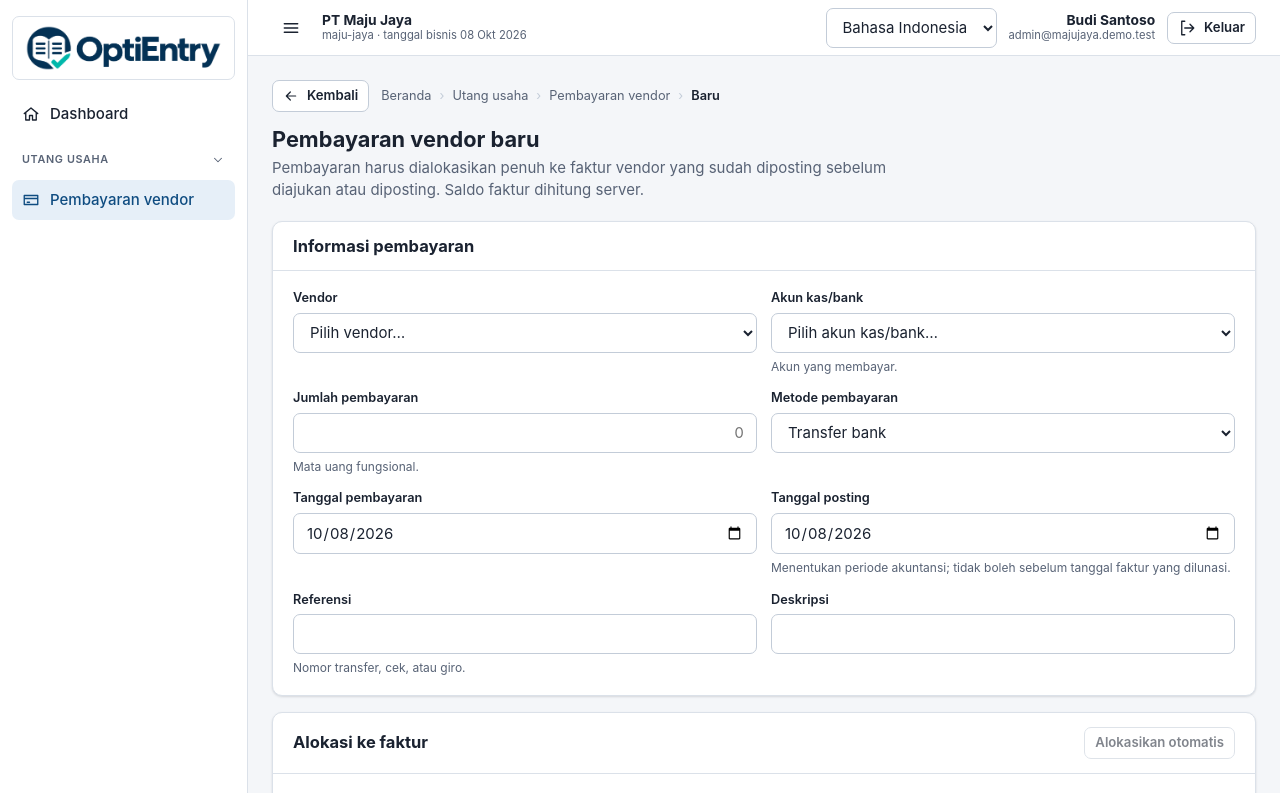
Test: vendor payment editor › sends the exact payload with the allocations of the suggestion as decimal strings
Check: the heading "Pembayaran vendor baru" is shown, box [272,126,539,152]
Select "V1 · PT Sumber Makmur" in the dropdown labelled "Vendor" at {"x": 525, "y": 333}, box [293,313,757,353]
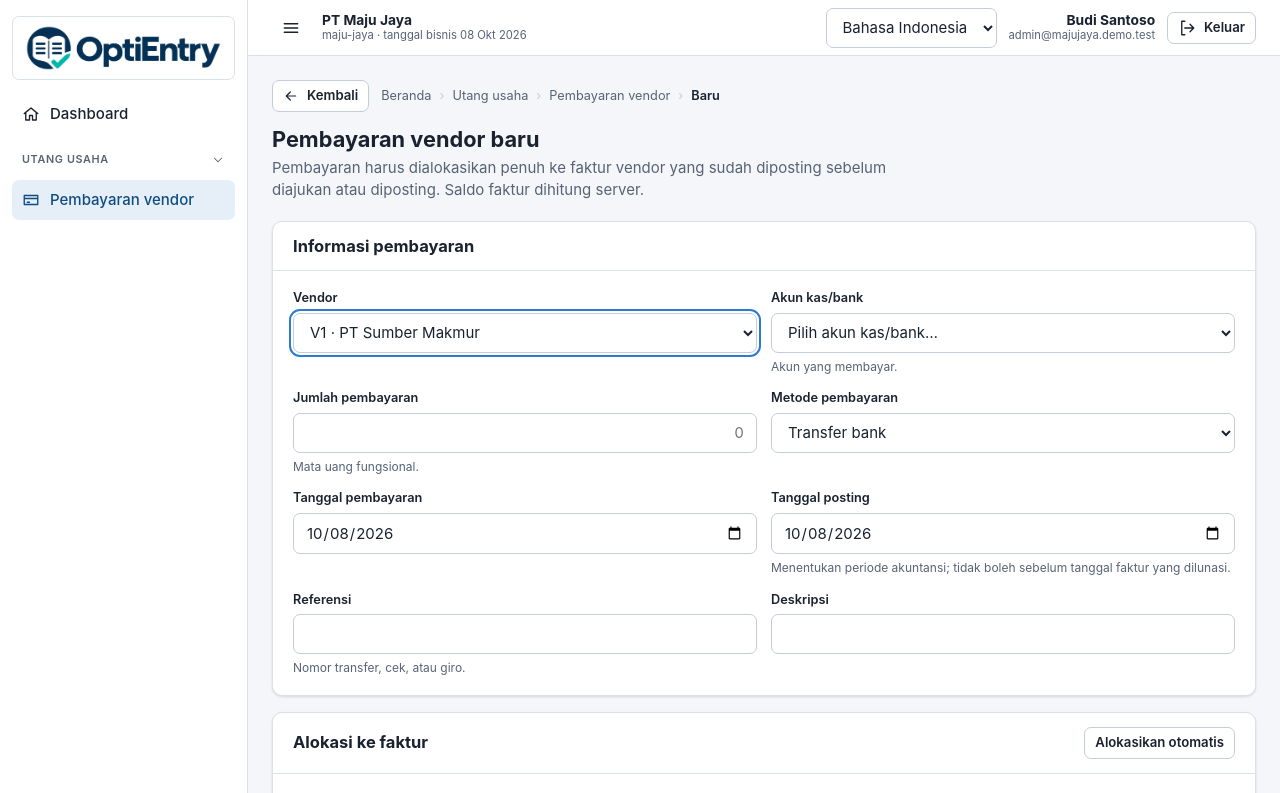
Select "BCA · BCA Operasional" in the dropdown labelled "Akun kas/bank" at {"x": 1003, "y": 333}, box [771,313,1235,353]
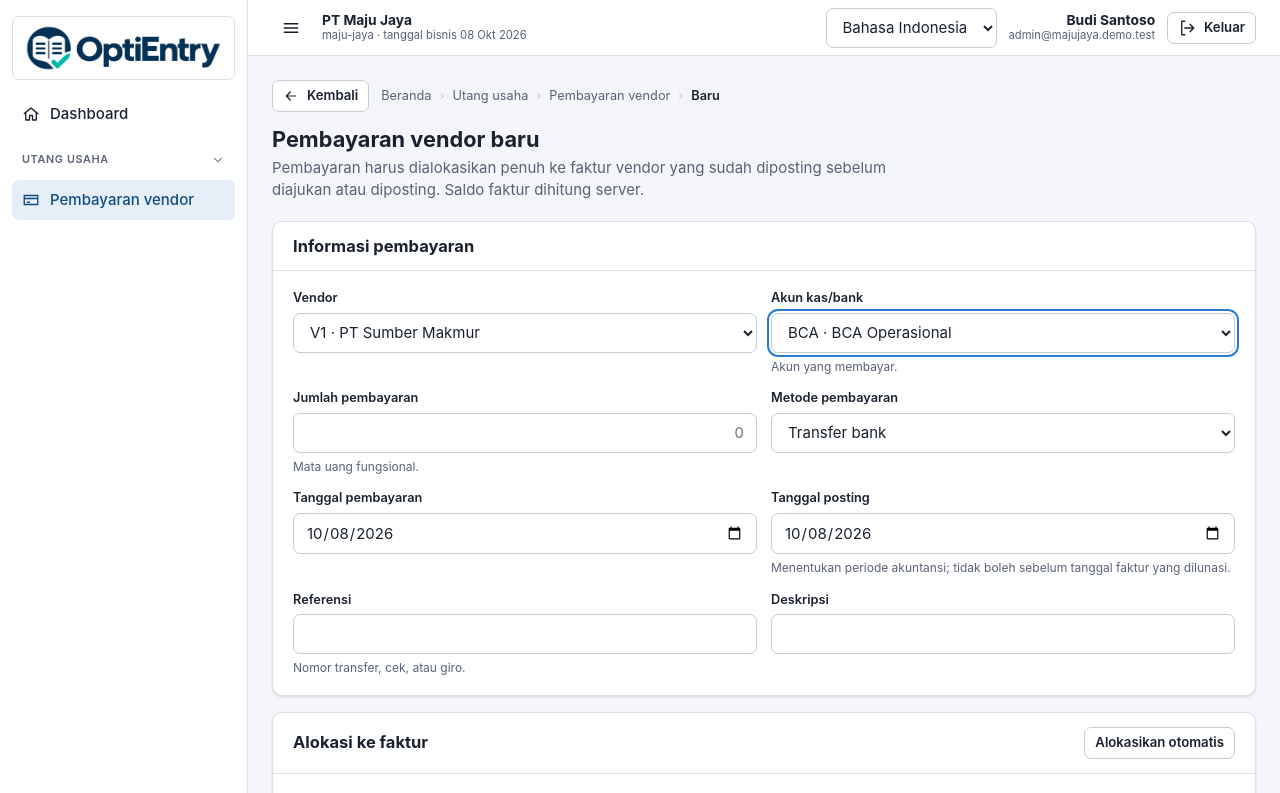
Type " 800000 " into the field labelled "Jumlah pembayaran" at {"x": 525, "y": 433}, box [293,413,757,453]
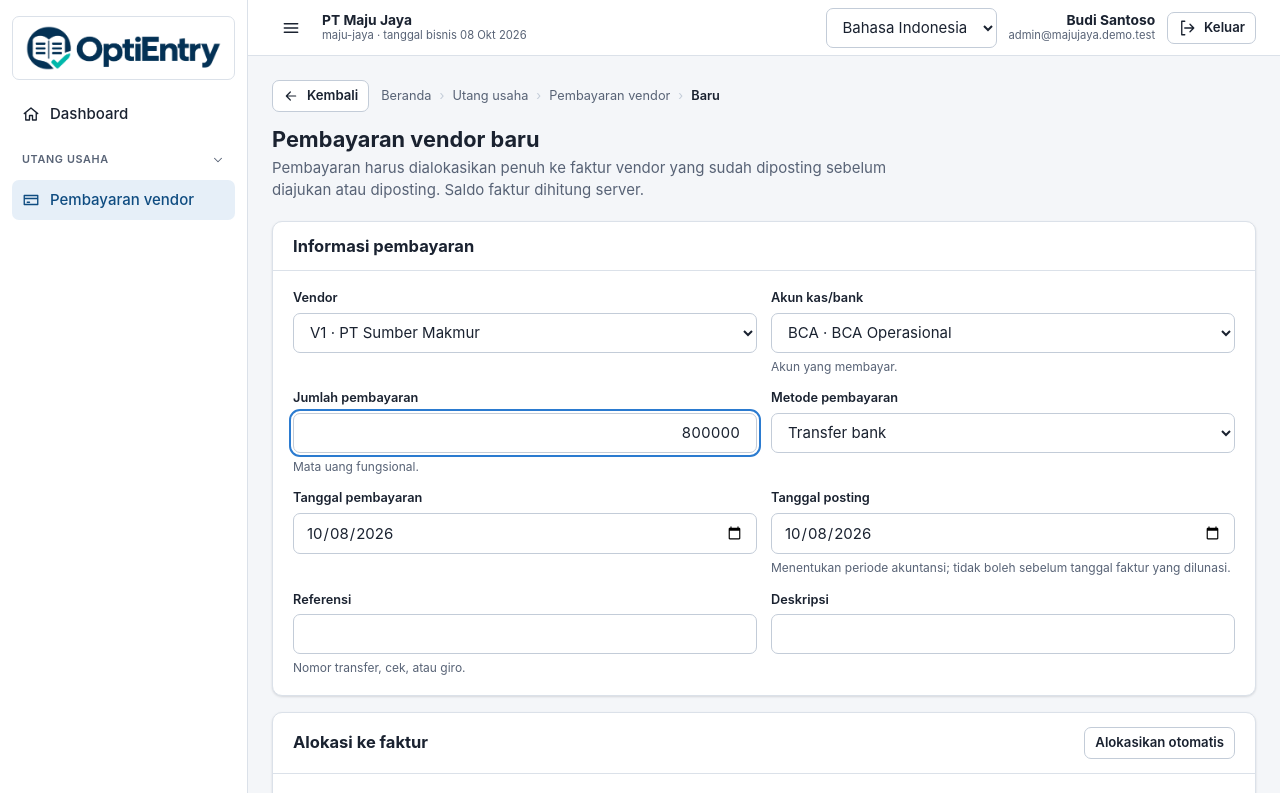
Type "TRF-9" into the field labelled "Referensi" at {"x": 525, "y": 634}, box [293,614,757,654]
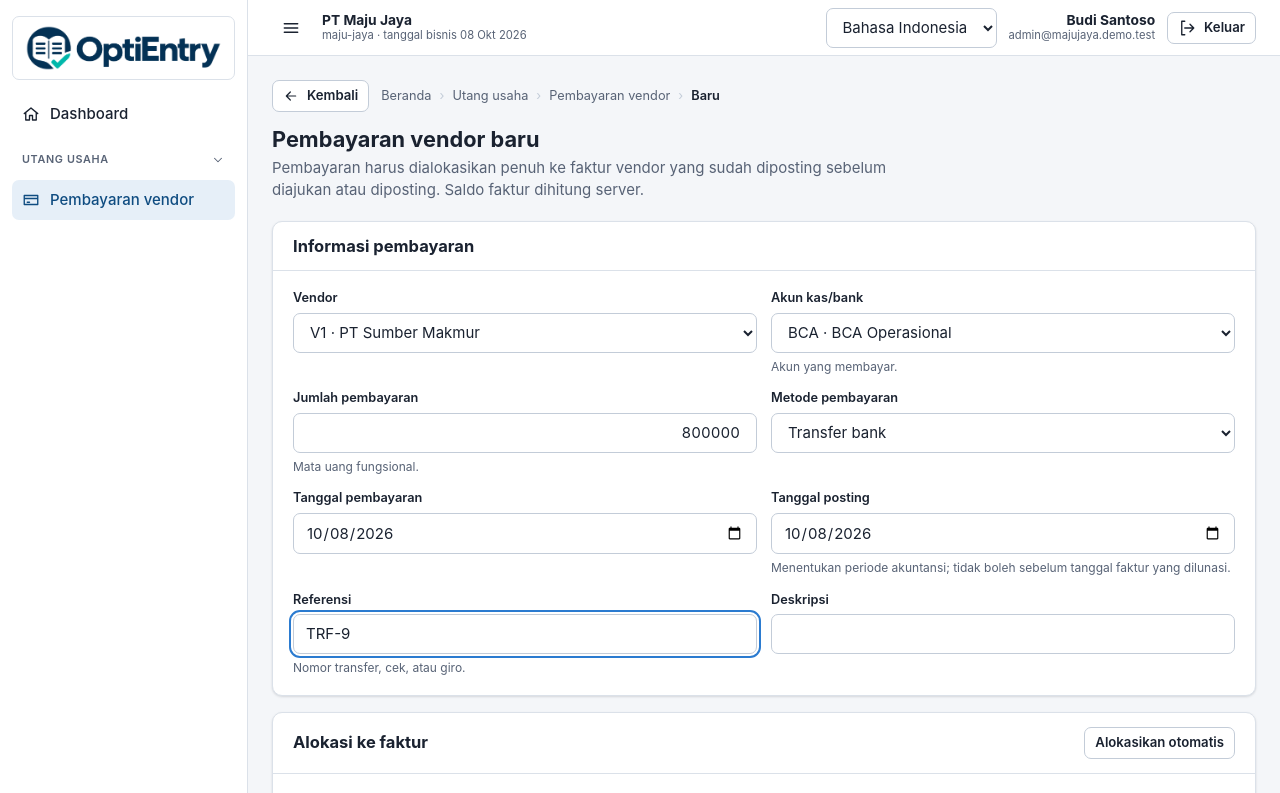
Click the button "Alokasikan otomatis" at {"x": 1160, "y": 743}, box [1084,727,1235,759]
(page scrolled)
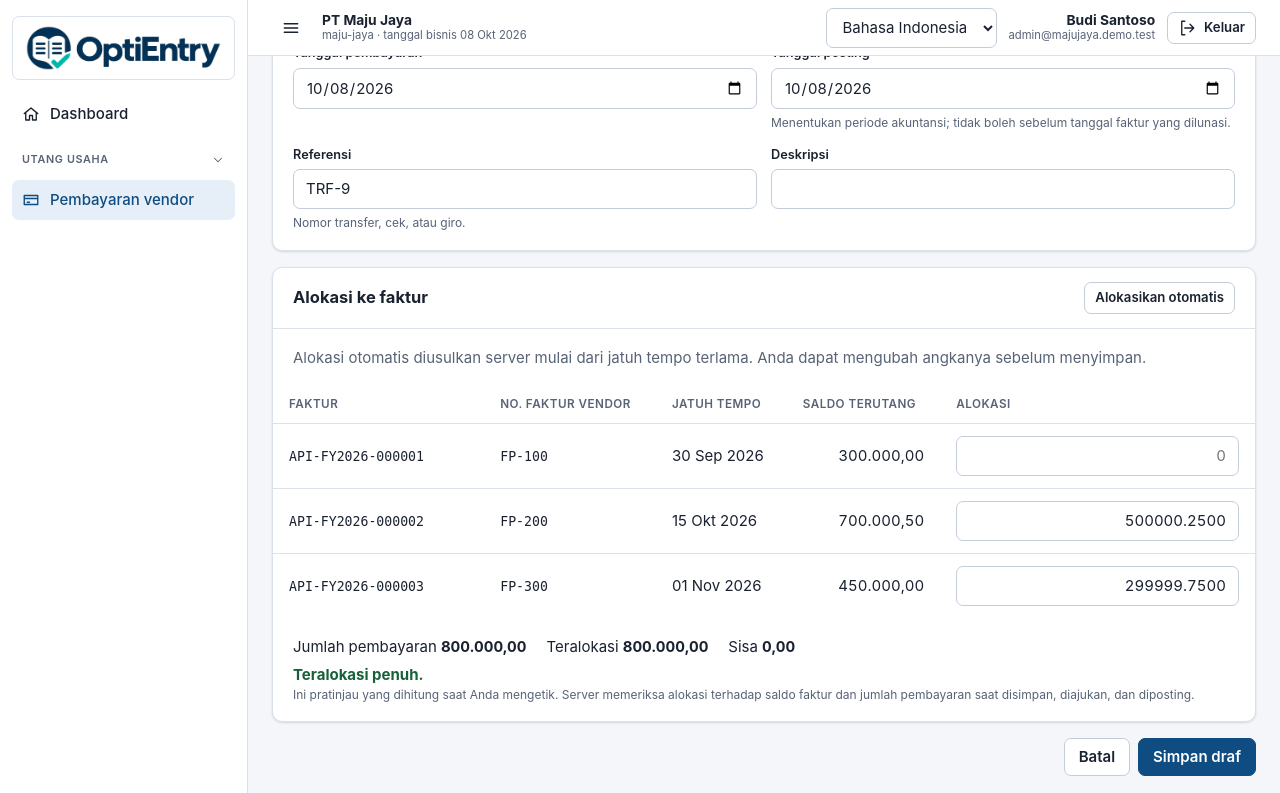
Click the button "Simpan draf" at {"x": 1197, "y": 757}, box [1138,738,1256,776]
(page scrolled)
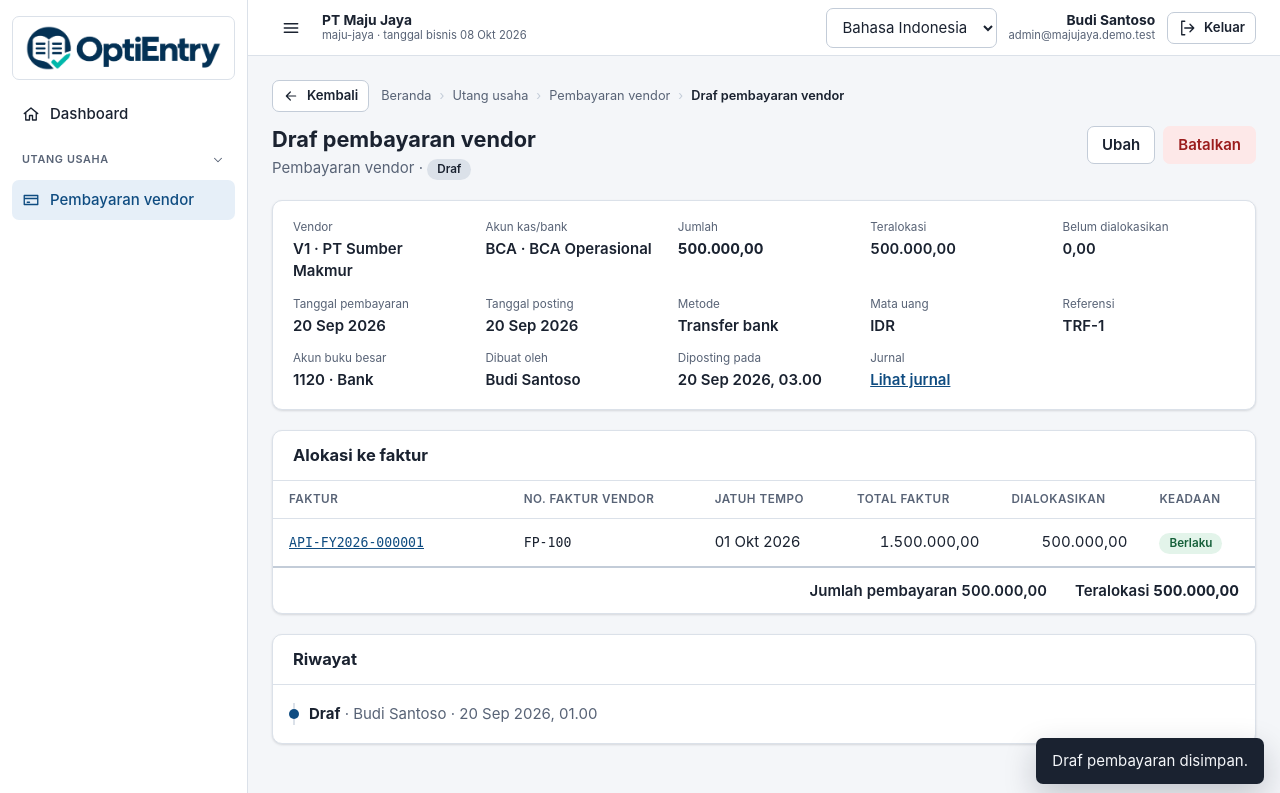
Check: the heading "Draf pembayaran vendor" is shown, box [272,126,536,153]
